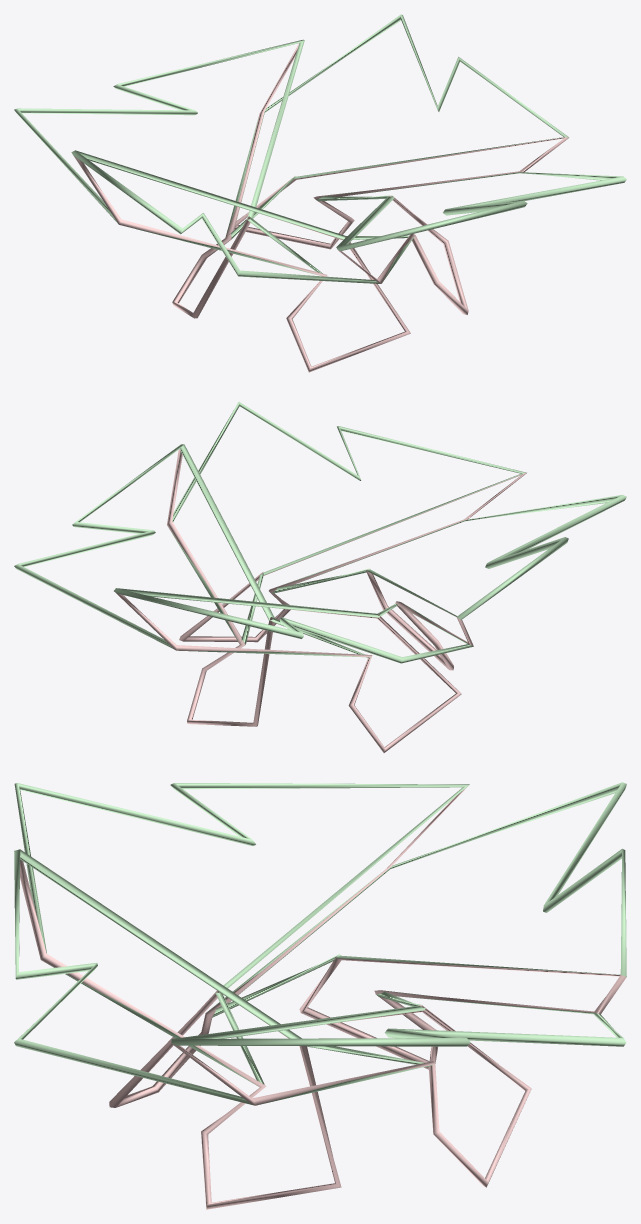
Rendered from MapB1.glb.
3 renders of one model, top to bottom at view 1: azimuth 30°, elevation 25°; view 2: azimuth 150°, elevation 25°; view 3: azimuth 270°, elevation 25°, orthographic. The views are drawn at different scales.
Parts seen in each view (by area): view 1: RegularMap_B.001; view 2: RegularMap_B.001; view 3: RegularMap_B.001.
Part boxes in pixels (x1,y1,x2,y2): RegularMap_B.001: (14,14,626,372); RegularMap_B.001: (14,402,626,752); RegularMap_B.001: (14,782,626,1209).
Size of the model in its own units: 2.06 by 0.8506 by 2.06.
